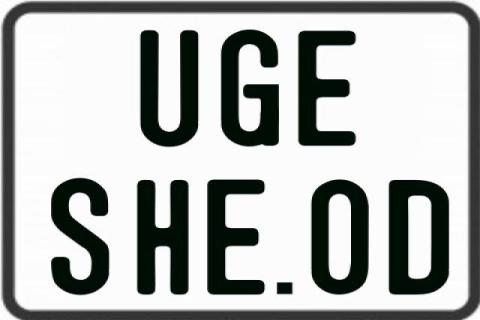0: (309, 177, 368, 293)
D: (386, 180, 452, 294)
E: (206, 177, 270, 297), (296, 28, 356, 144)
G: (218, 29, 279, 149)
H: (138, 179, 188, 299)
S: (51, 177, 109, 295)
U: (139, 28, 203, 146)
